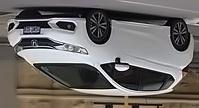Car hood: (16, 49, 95, 65)
Driver-s door - -F-R-: (110, 16, 144, 96)
Fender - -F-R-: (82, 21, 115, 66)
Fender - -R-R-: (168, 27, 192, 82)
Front bumper: (6, 17, 88, 46)
Headlight - -L-: (12, 44, 24, 55)
Headlight - -R-: (54, 41, 89, 56)
Passenger-s door - -R-R-: (141, 16, 172, 97)
Side bumper - -R-: (111, 17, 172, 36)
Side mirror - -R-: (114, 57, 130, 72)
